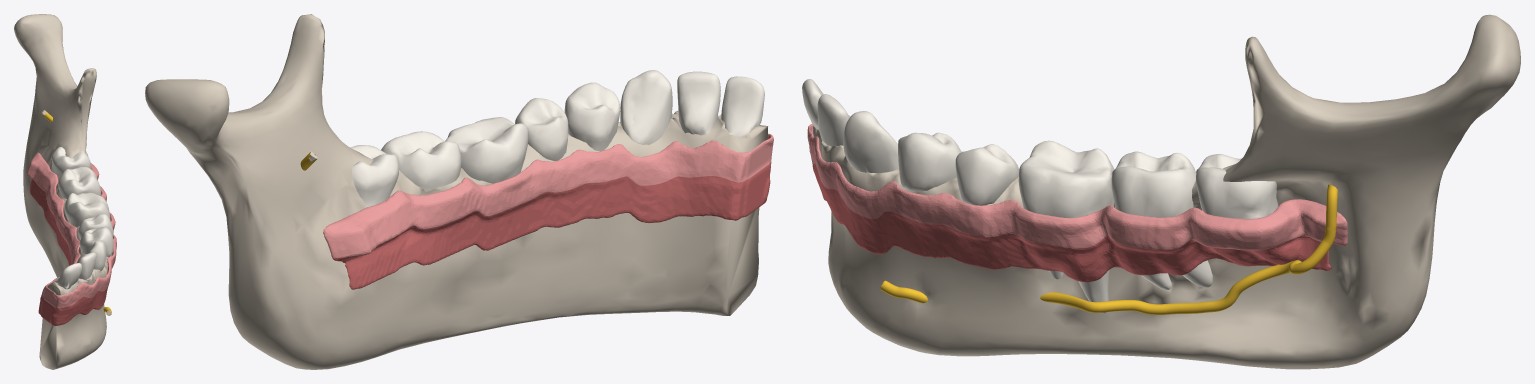
Rendered from wisdom-tooth-normal.glb.
3 renders of one model, left to right at view 1: azimuth 30°, elevation 25°; view 2: azimuth 150°, elevation 25°; view 3: azimuth 270°, elevation 25°, orthographic. The views are drawn at different scales.
Visible parts, largest first — view 1: mandible left, teeth, gum, mucosa, wisdom tooth (erupted), nerve; view 2: mandible left, teeth, mucosa, gum, wisdom tooth (erupted); view 3: mandible left, teeth, gum, mucosa, nerve, wisdom tooth (erupted).
Boxes of the visible parts, left/top/right/bottom form: mandible left: left=14, top=14, right=112, bottom=369; teeth: left=55, top=166, right=113, bottom=289; gum: left=26, top=152, right=116, bottom=308; mucosa: left=29, top=178, right=108, bottom=325; wisdom tooth (erupted): left=51, top=147, right=90, bottom=175; nerve: left=41, top=110, right=111, bottom=315; mandible left: left=145, top=14, right=768, bottom=369; teeth: left=381, top=70, right=764, bottom=191; mucosa: left=332, top=162, right=771, bottom=289; gum: left=323, top=133, right=773, bottom=258; wisdom tooth (erupted): left=350, top=145, right=398, bottom=207; mandible left: left=813, top=14, right=1520, bottom=369; teeth: left=802, top=79, right=1212, bottom=313; gum: left=807, top=124, right=1347, bottom=250; mucosa: left=812, top=161, right=1345, bottom=282; nerve: left=880, top=184, right=1337, bottom=314; wisdom tooth (erupted): left=1196, top=154, right=1278, bottom=218.
Size of the model in its own units: 0.0931 by 0.1057 by 0.1665.
